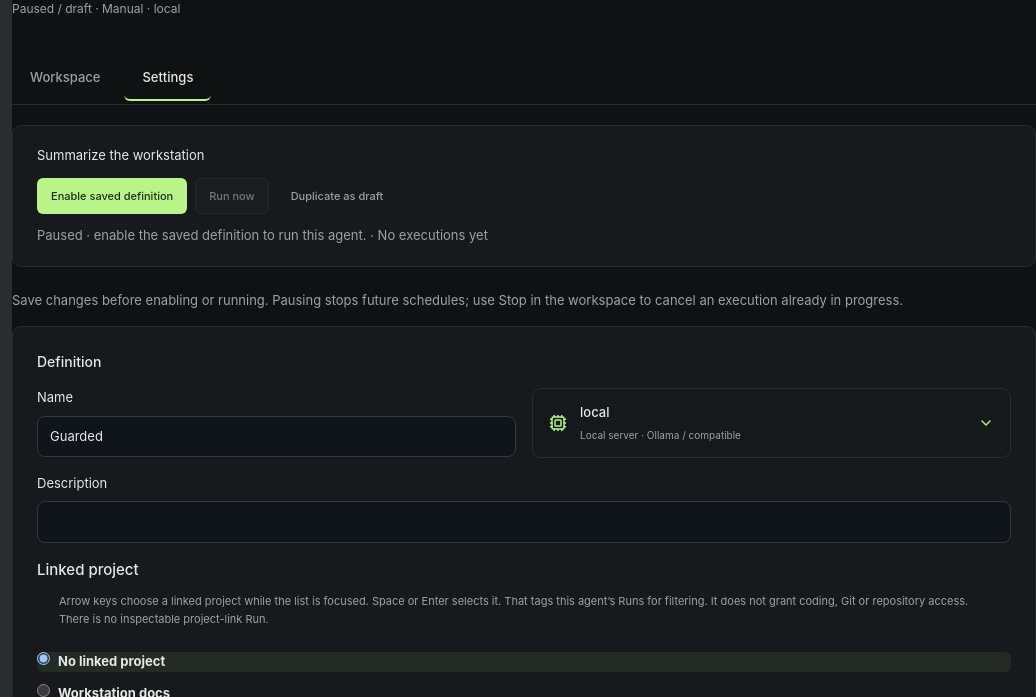
Test: saves a linked project from the definition without enabling or running
This screenshot has width=1036, height=697.
Check: the radio button with aria-label "Linked project none draft" is checked, box [37,652,50,665]
Check: the text "does not grant coding, Git or repository access" is shown, box [59,594,968,626]
Click the radio button with aria-label "Linked project project-1": (44, 690) [37,684,50,696]
(page scrolled)
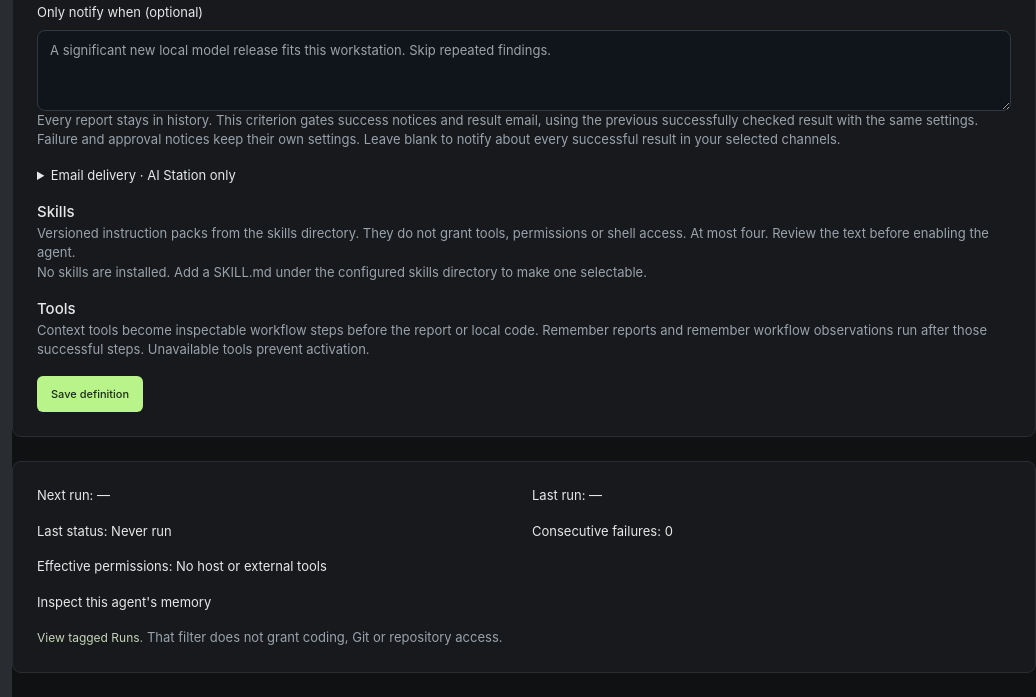
Click the button "Save definition": (90, 394) [37,376,143,412]
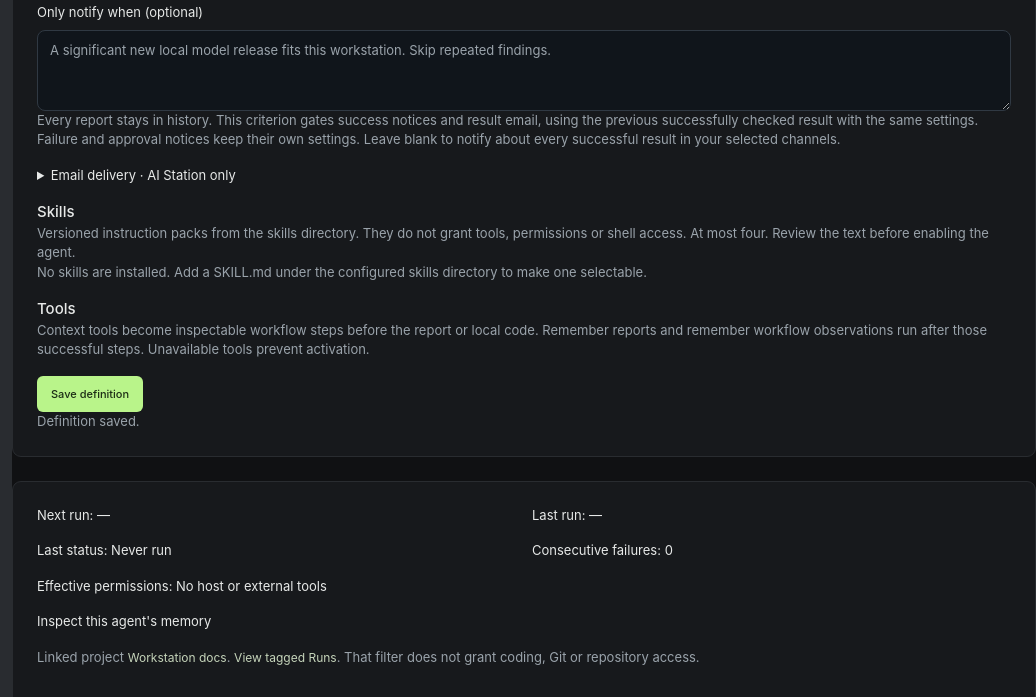
Check: the link with aria-label "Inspect project project-1" reads "Workstation docs", box [128,649,227,667]
